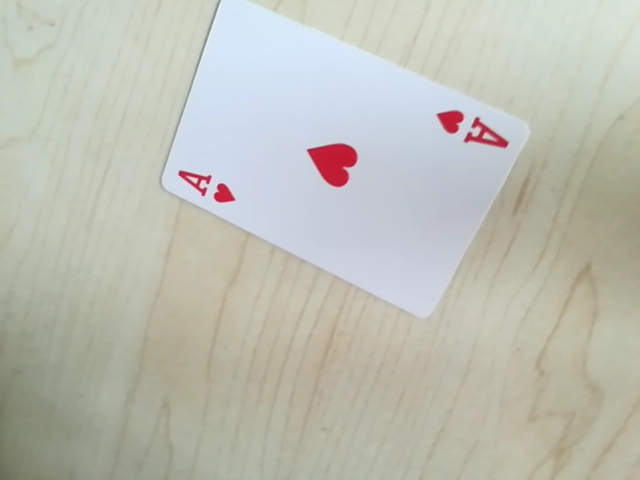hx a: (428, 102, 519, 159), (170, 160, 243, 207)
